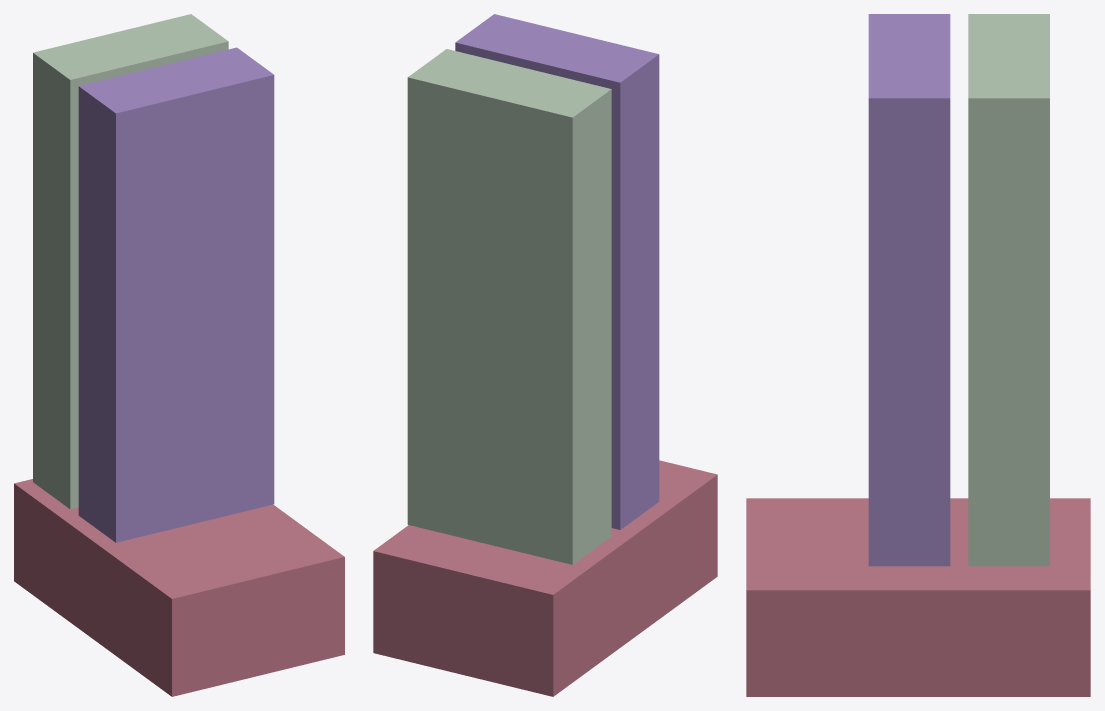
The model's file is 199505_pred.glb.
The picture shows the model from 3 angles, left to right: view 1: azimuth 30°, elevation 25°; view 2: azimuth 150°, elevation 25°; view 3: azimuth 270°, elevation 25°; orthographic projection. The views are drawn at different scales.
Visible parts, largest first — view 1: world; view 2: world; view 3: world.
Part boxes in pixels (left/top/right/bottom): world: left=14, top=14, right=344, bottom=696; world: left=373, top=14, right=717, bottom=696; world: left=746, top=14, right=1090, bottom=696.
Bounding box in the file's own units: 2.4 × 7.2 × 3.8.
